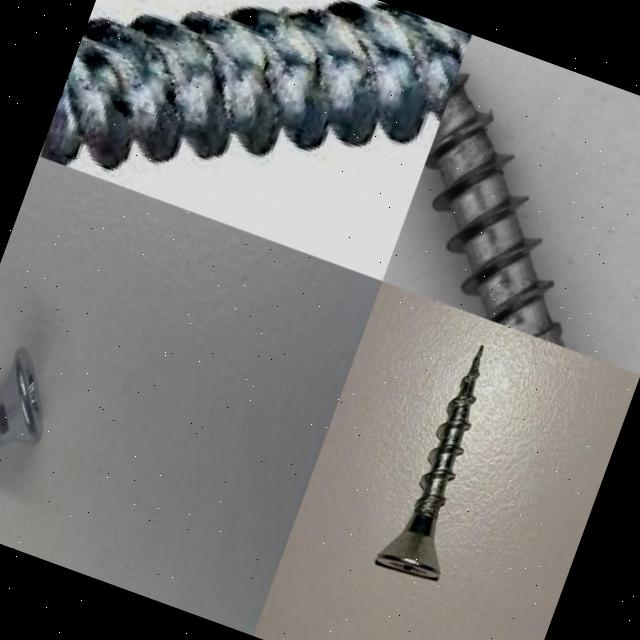Screw: (382, 34, 640, 374), (39, 2, 472, 174), (376, 344, 484, 579), (0, 321, 73, 545)
